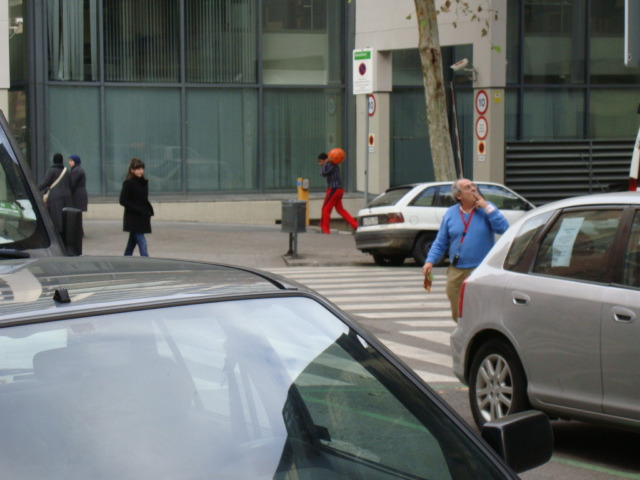deflection: (440, 177, 500, 236)
